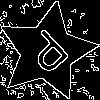P: (22, 27, 78, 83)
